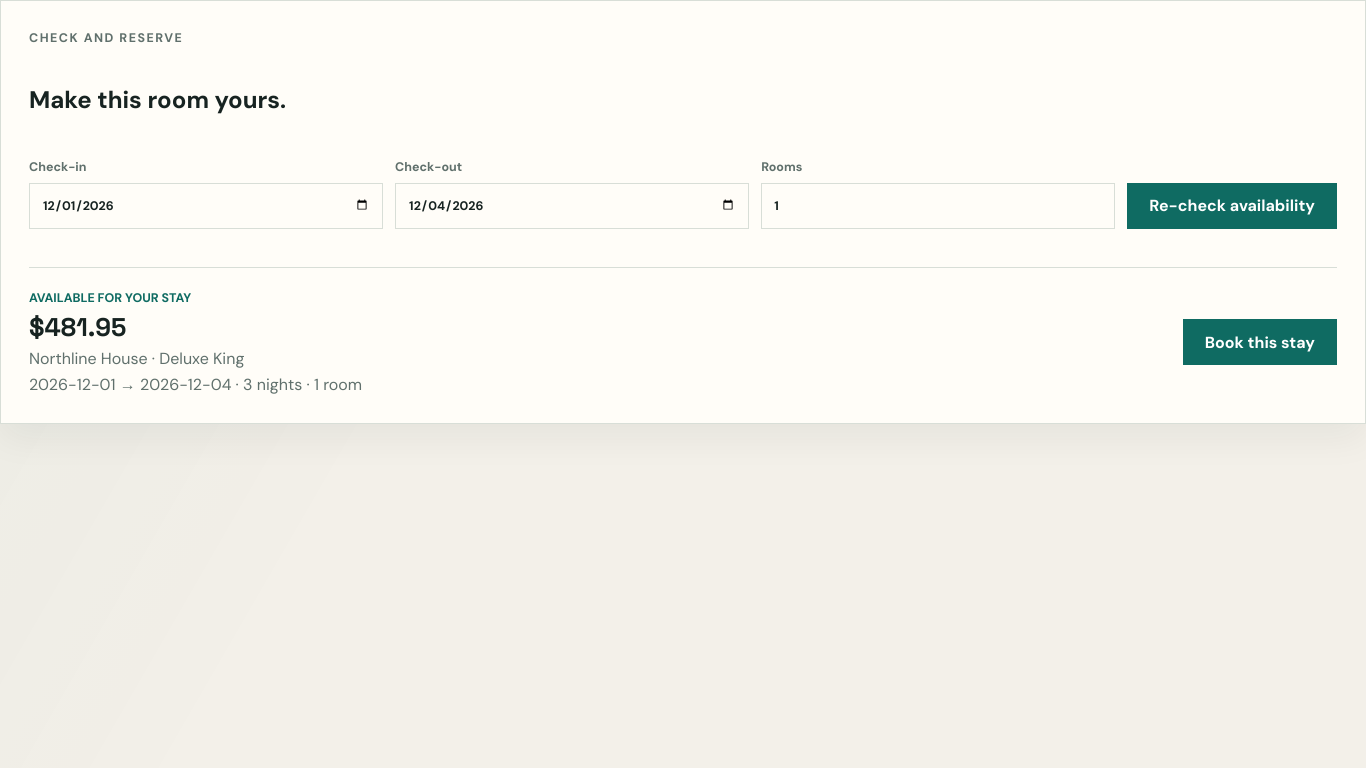
BookingForm › posts the reservation and shows the pending state
The width and height of the screenshot is (1366, 768).
What coordinates should you click on to do the following:
click the button "Book this stay"
I would click on:
 (1260, 342)
Its box is [1183,319,1337,365].
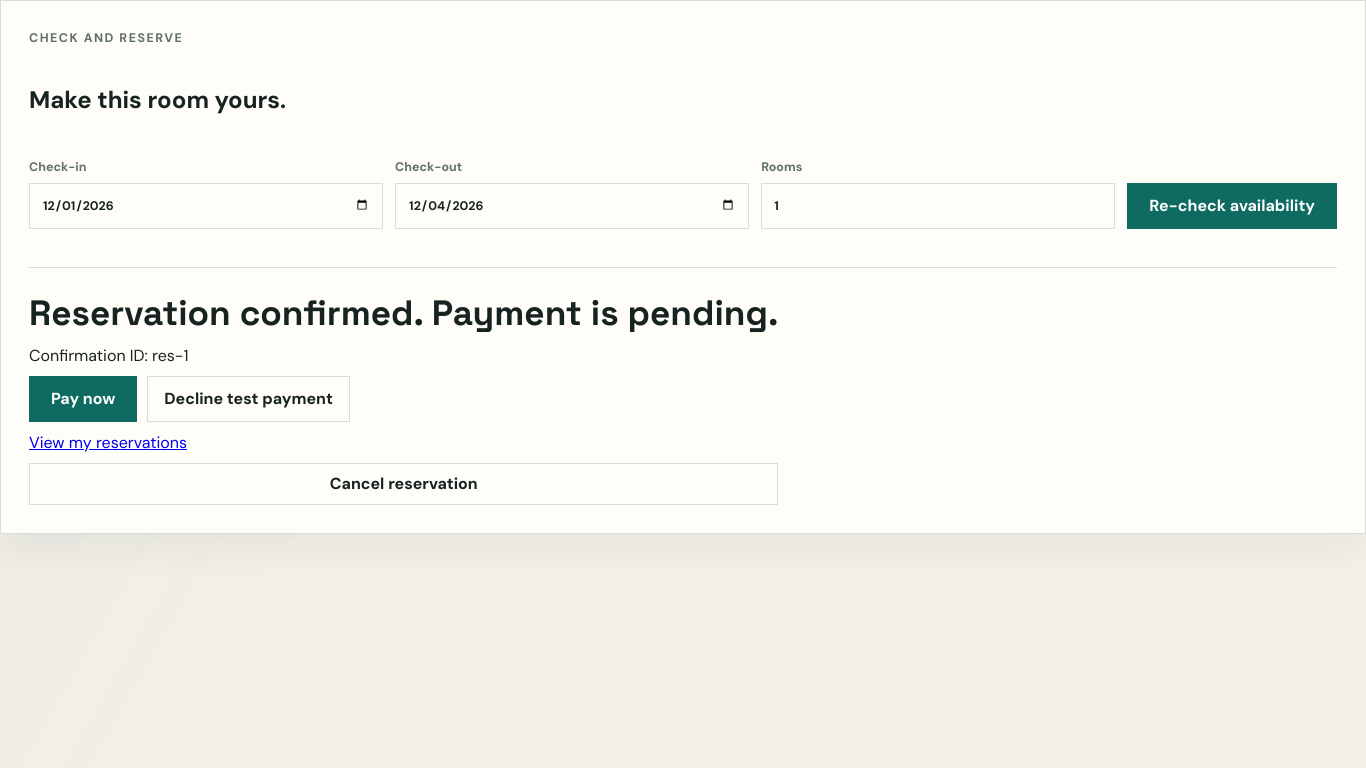
Now the text "Reservation confirmed. Payment is pending." is shown, box [29,290,778,334]
